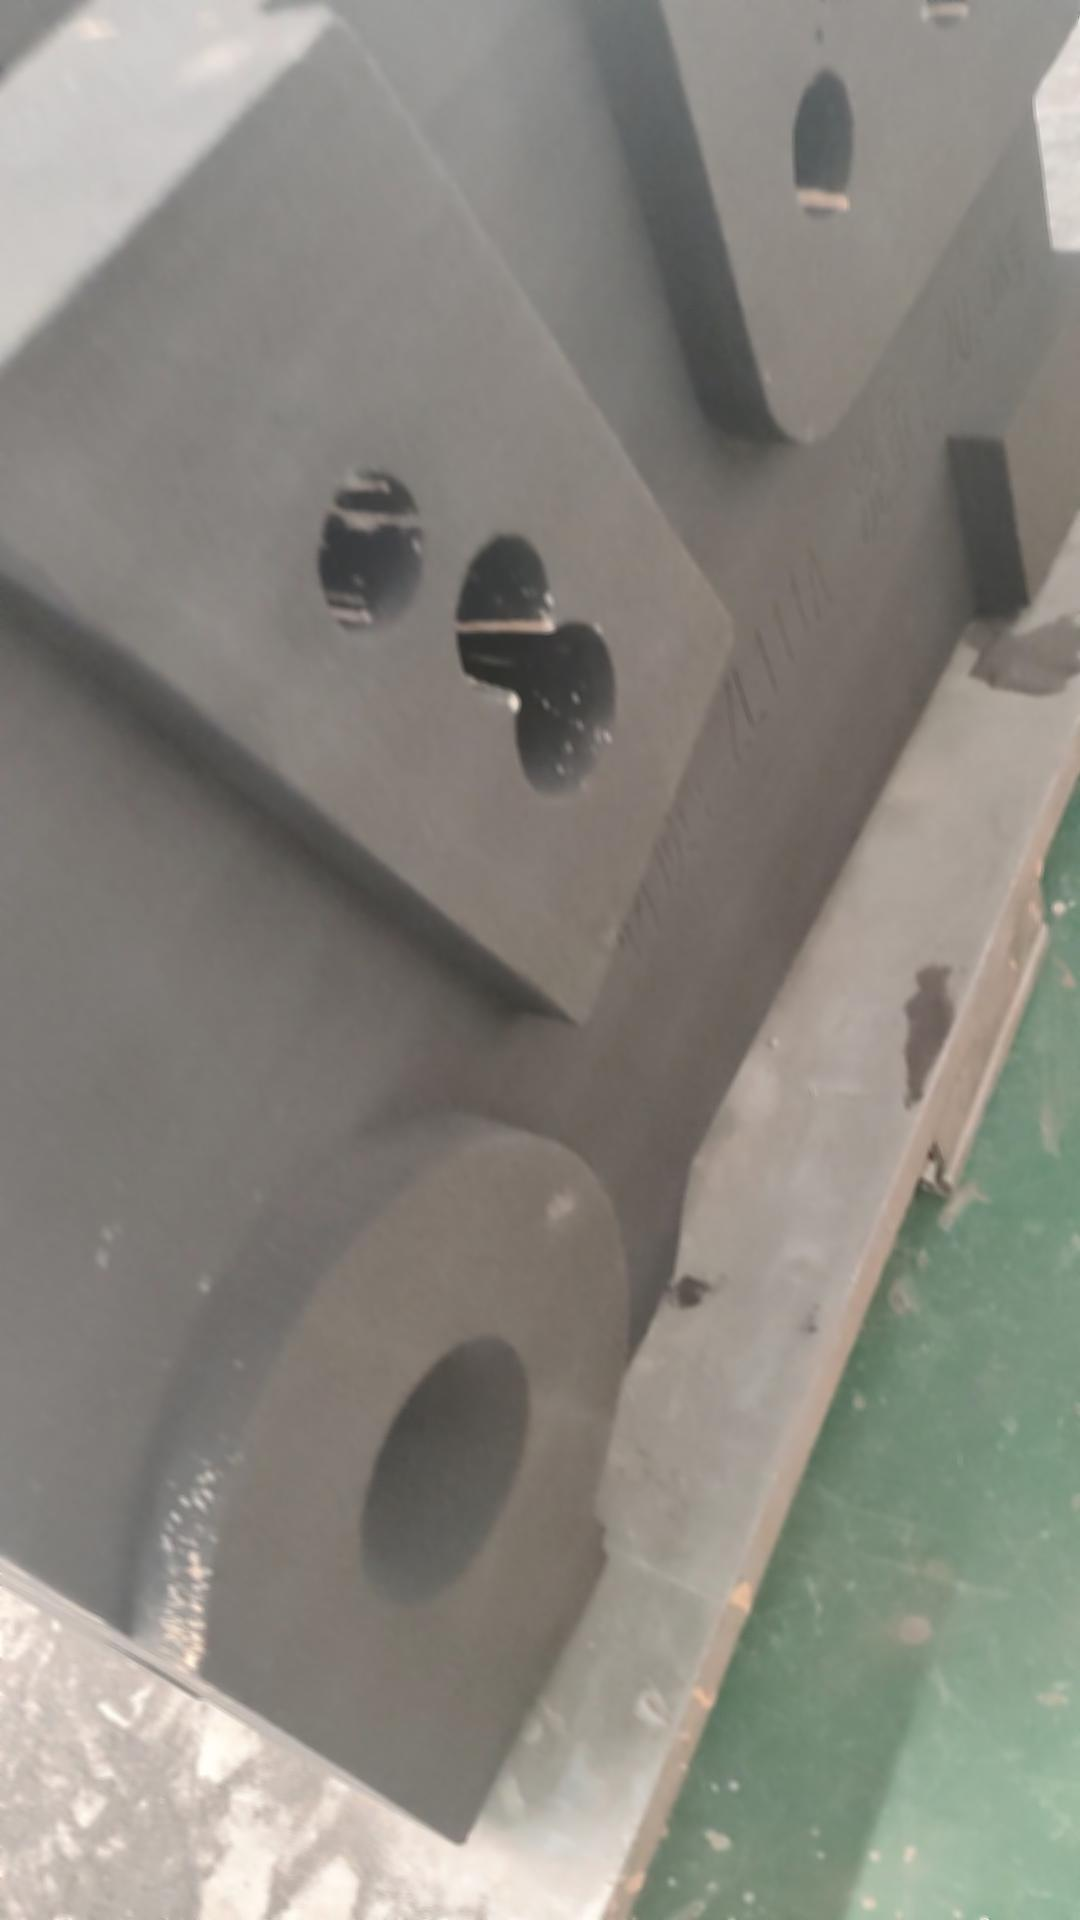pouring hole: (360, 1335, 531, 1607)
